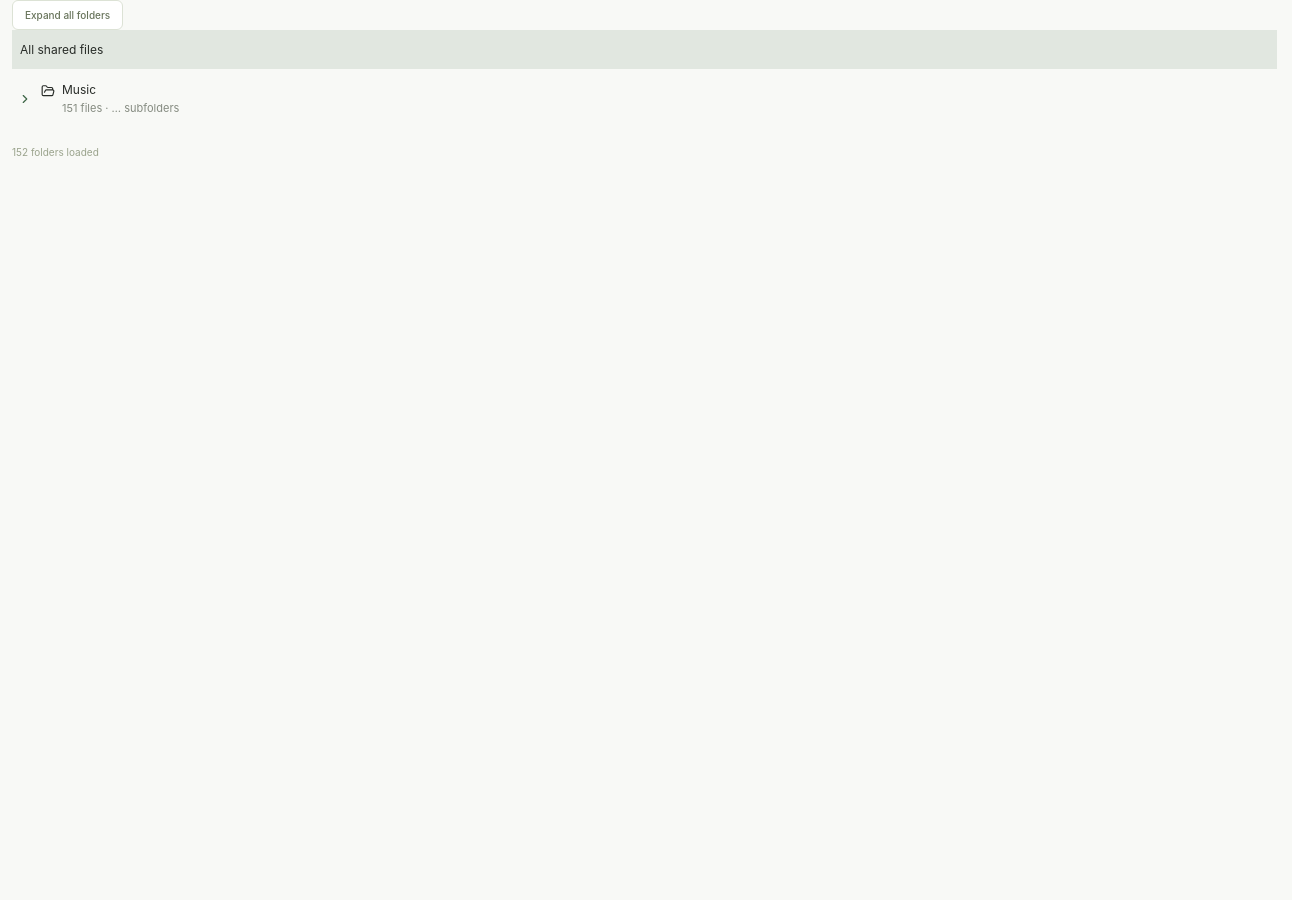
loads every folder once and expands and filters without more requests
This screenshot has width=1292, height=900.
Later steps or results of the test are not shown.
expect the button titled "Music" is shown: met, box left=37, top=73, right=1277, bottom=124
Click the button "Expand all folders" at (68, 15), box left=12, top=0, right=123, bottom=30
(page scrolled)
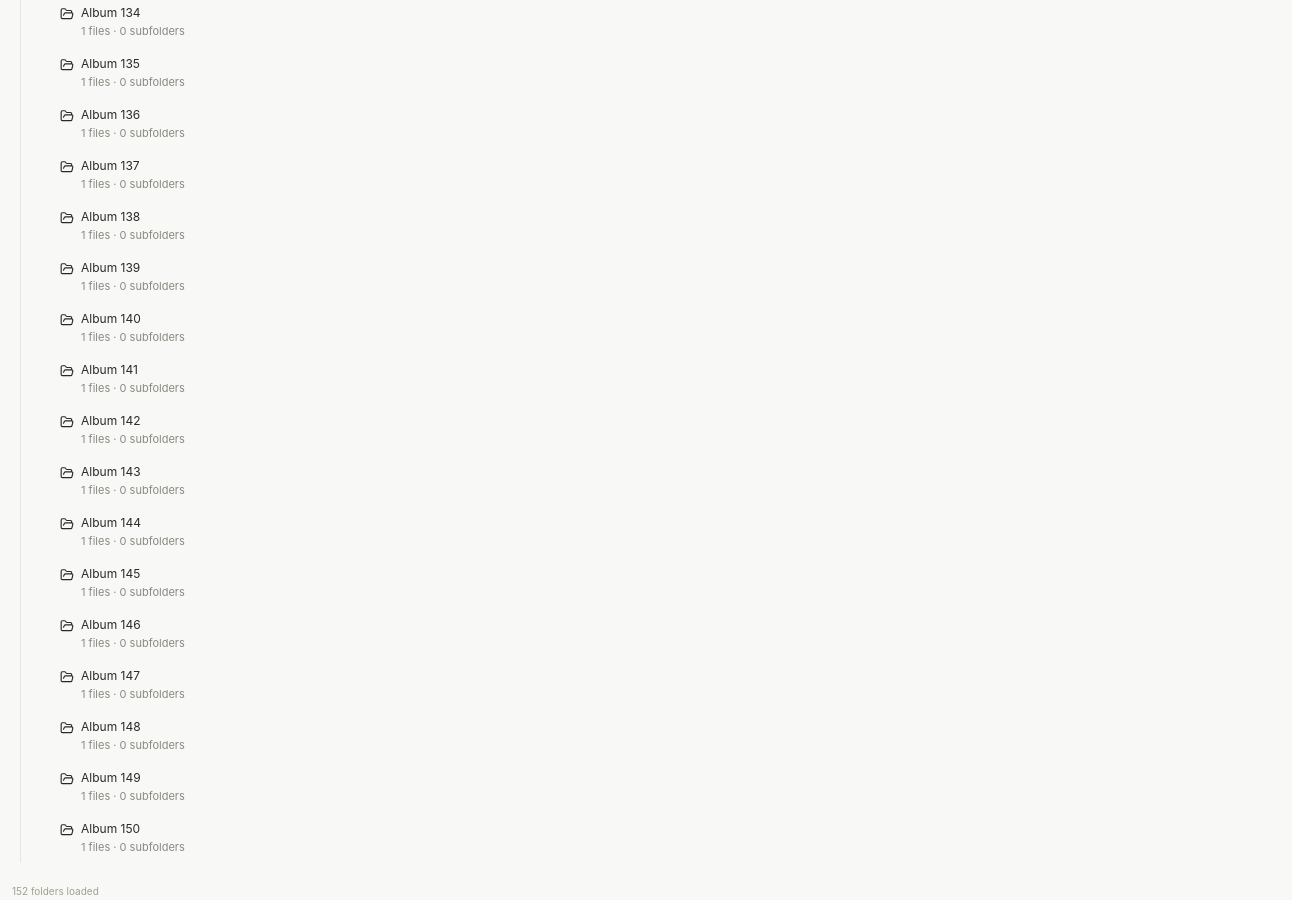
expect the number of list items is 152: met
expect the button titled "Music\\Album 150" is shown: met, box left=56, top=812, right=1277, bottom=863
